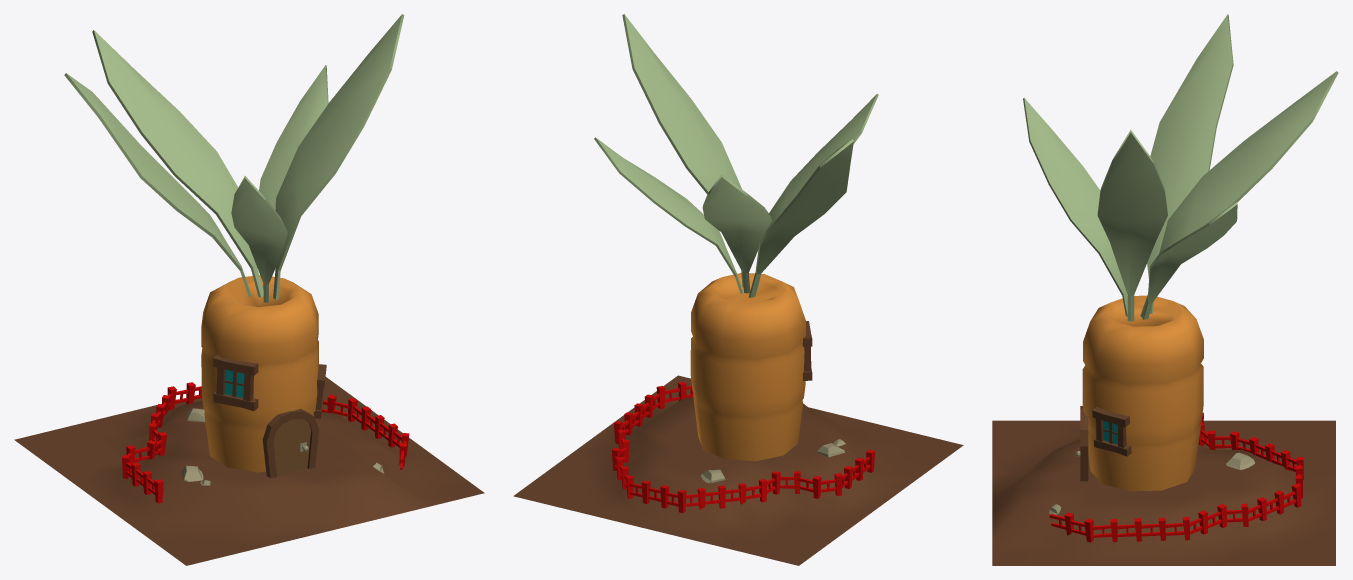
File: House_SM.fbx
3 renders of one model, left to right at view 1: azimuth 30°, elevation 25°; view 2: azimuth 150°, elevation 25°; view 3: azimuth 270°, elevation 25°, orthographic. The views are drawn at different scales.
Parts seen in each view (by area): view 1: Dirt, Carrot, Leaf2, Leaf5, Leaf4, Leaf1, Leaf3, Door, Window1; view 2: Dirt, Carrot, Leaf5, Leaf4, Leaf2, Leaf3, Leaf1; view 3: Dirt, Carrot, Leaf4, Leaf2, Leaf5, Leaf1, Leaf3, Window2, Door.
Boxes of the visible parts, x1=… form: Dirt: x1=14, y1=376, x2=484, y2=565; Carrot: x1=201, y1=275, x2=318, y2=472; Leaf2: x1=92, y1=30, x2=263, y2=297; Leaf5: x1=273, y1=14, x2=404, y2=299; Leaf4: x1=64, y1=73, x2=251, y2=296; Leaf1: x1=231, y1=176, x2=287, y2=302; Leaf3: x1=259, y1=65, x2=328, y2=289; Door: x1=262, y1=408, x2=319, y2=478; Window1: x1=213, y1=354, x2=258, y2=411; Dirt: x1=513, y1=375, x2=963, y2=565; Carrot: x1=690, y1=273, x2=805, y2=461; Leaf5: x1=622, y1=14, x2=743, y2=287; Leaf4: x1=749, y1=139, x2=853, y2=297; Leaf2: x1=702, y1=174, x2=771, y2=293; Leaf3: x1=594, y1=137, x2=742, y2=293; Leaf1: x1=757, y1=94, x2=878, y2=288; Dirt: x1=992, y1=420, x2=1335, y2=565; Carrot: x1=1082, y1=295, x2=1203, y2=491; Leaf4: x1=1147, y1=14, x2=1233, y2=313; Leaf2: x1=1140, y1=71, x2=1338, y2=318; Leaf5: x1=1097, y1=129, x2=1167, y2=321; Leaf1: x1=1023, y1=98, x2=1127, y2=316; Leaf3: x1=1143, y1=202, x2=1237, y2=319; Window2: x1=1092, y1=407, x2=1131, y2=456; Door: x1=1080, y1=406, x2=1088, y2=481.
Bounding box in the file's own units: 526 × 753 × 524.
